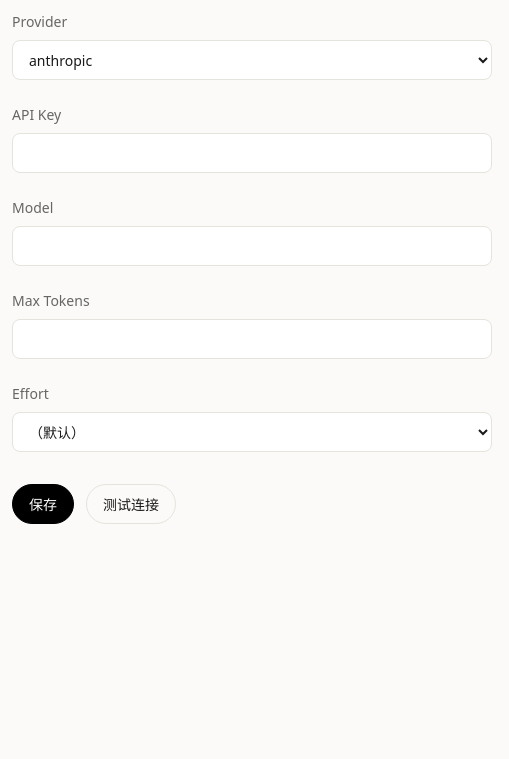
Test case: ProviderForm 保存触发 › 保存失败且 stderr 命中已知关键词时展示中文提示
This screenshot has width=509, height=759.
Click the button "保存": (43, 504) [12,484,74,524]
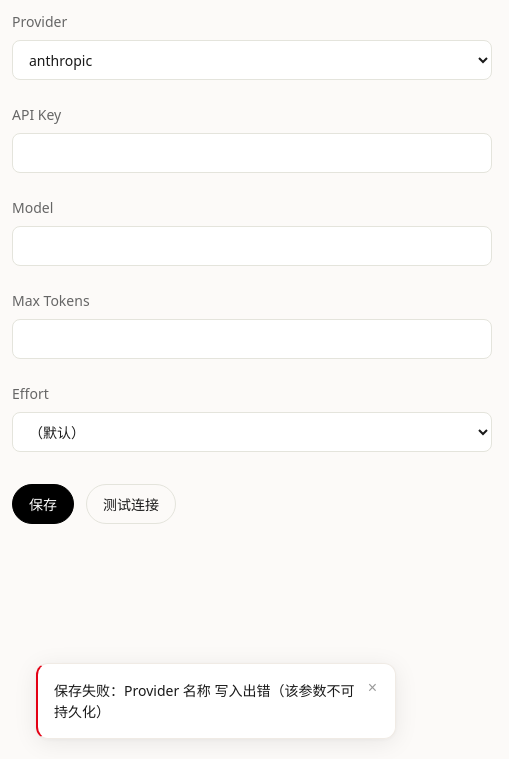
Check: the text "保存失败：Provider 名称 写入出错（该参数不可持久化）" is shown, box [54,680,358,722]
